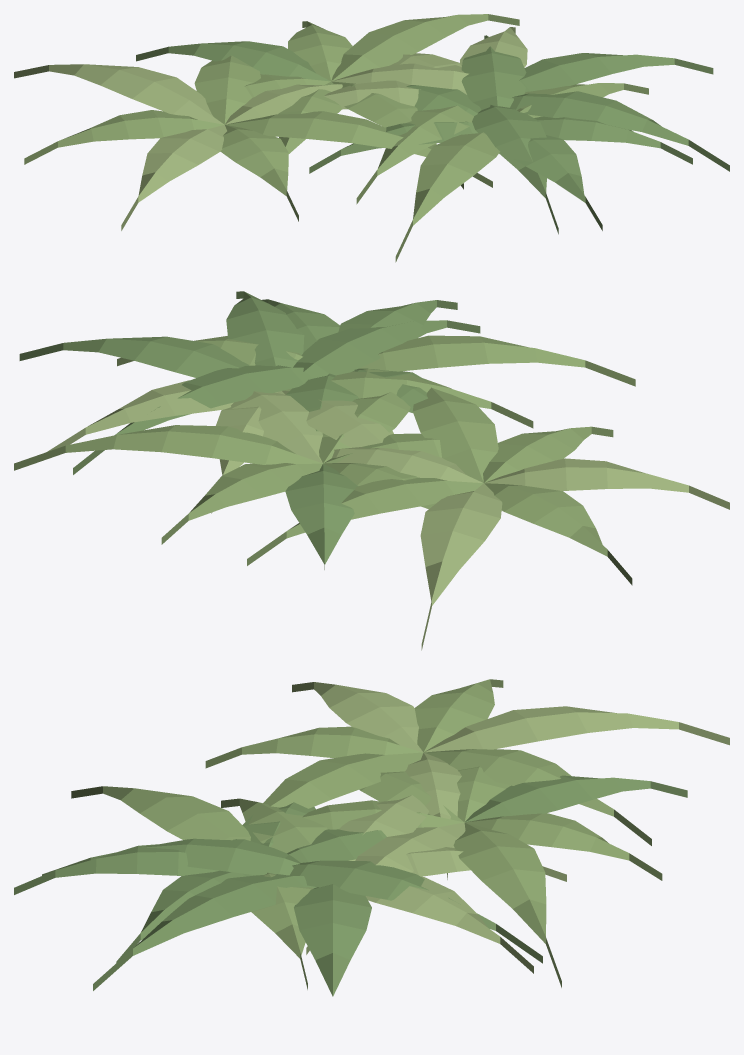
The model's file is PalmScrub.glb.
The picture shows the model from 3 angles, top to bottom: view 1: azimuth 30°, elevation 25°; view 2: azimuth 150°, elevation 25°; view 3: azimuth 270°, elevation 25°; orthographic projection. The views are drawn at different scales.
Parts seen in each view (by area): view 1: Frond.040, Frond.057, Frond.048, Frond.038, Frond.044, Frond.032, Frond.042, Frond.059, Frond.041, Frond.037, Frond.052, Frond.043 (+16 smaller); view 2: Frond.057, Frond.040, Frond.048, Frond.044, Frond.032, Frond.042, Frond.037, Frond.052, Frond.059, Frond.041, Frond.039, Frond.038 (+16 smaller); view 3: Frond.040, Frond.057, Frond.032, Frond.038, Frond.044, Frond.048, Frond.059, Frond.042, Frond.052, Frond.043, Frond.039, Frond.058 (+16 smaller).
Boxes of the visible parts, x1,y1,x2,y2 form: Frond.040: [14, 64, 223, 124]; Frond.057: [331, 14, 519, 81]; Frond.048: [395, 132, 500, 262]; Frond.038: [510, 91, 729, 171]; Frond.044: [225, 111, 492, 187]; Frond.032: [519, 53, 713, 92]; Frond.042: [121, 125, 226, 230]; Frond.059: [136, 41, 330, 81]; Frond.041: [24, 110, 224, 164]; Frond.037: [472, 105, 558, 234]; Frond.052: [461, 35, 526, 109]; Frond.043: [220, 125, 298, 221]; Frond.057: [14, 425, 322, 470]; Frond.040: [420, 483, 502, 650]; Frond.048: [359, 335, 635, 386]; Frond.044: [412, 387, 498, 482]; Frond.032: [19, 336, 248, 377]; Frond.042: [484, 458, 729, 509]; Frond.037: [293, 320, 480, 378]; Frond.052: [73, 365, 312, 474]; Frond.059: [285, 463, 358, 569]; Frond.041: [484, 483, 632, 585]; Frond.039: [247, 477, 483, 565]; Frond.038: [226, 291, 304, 367]; Frond.040: [424, 706, 729, 752]; Frond.057: [453, 822, 561, 987]; Frond.032: [294, 884, 371, 996]; Frond.038: [93, 874, 316, 990]; Frond.044: [263, 752, 423, 808]; Frond.048: [71, 786, 250, 840]; Frond.059: [465, 775, 687, 822]; Frond.042: [292, 682, 422, 752]; Frond.052: [289, 860, 542, 963]; Frond.043: [205, 726, 422, 768]; Frond.039: [424, 749, 651, 845]; Frond.058: [465, 813, 662, 880].
Size of the model in its own units: 3.98 by 0.3016 by 3.47.
